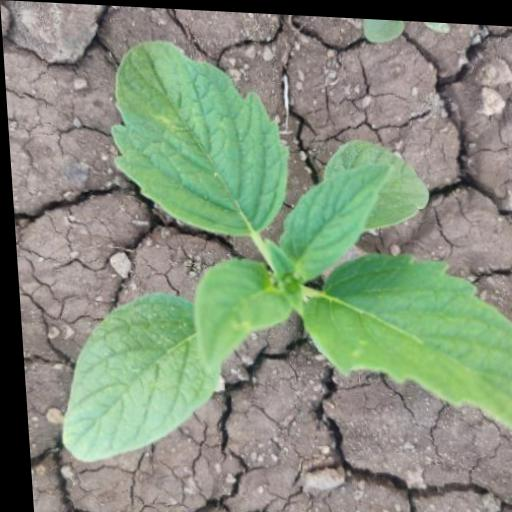crop: (14, 29, 512, 496)
